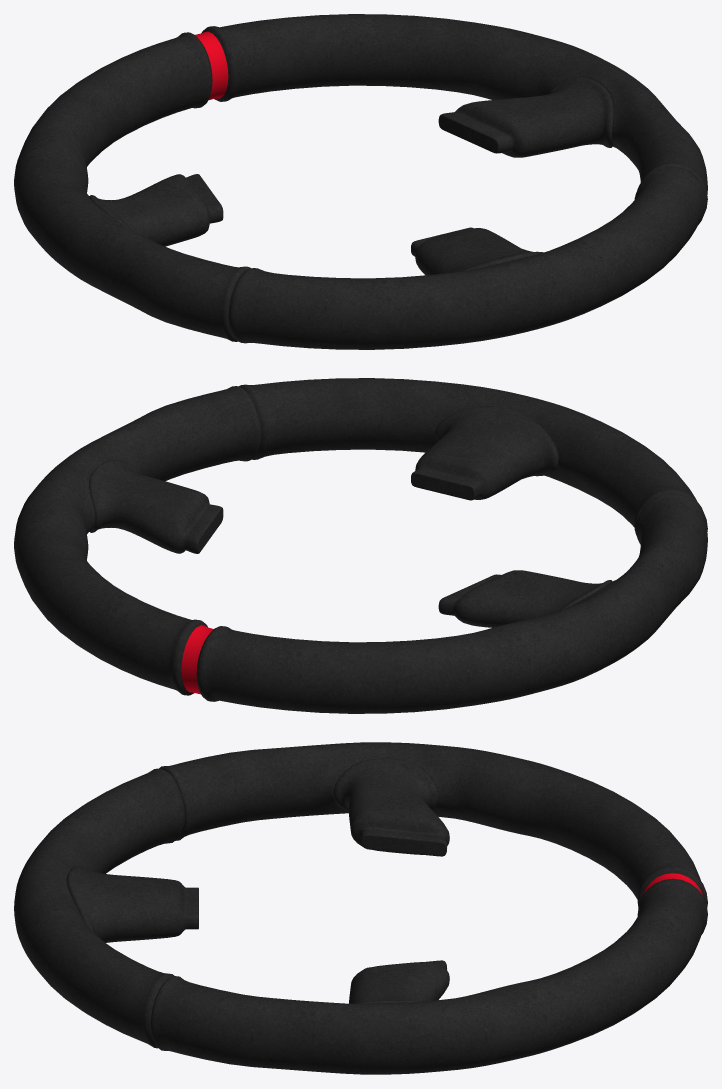
Rendered from leatherRim.glb.
3 views of the same model, one above another, from view 1: azimuth 30°, elevation 25°; view 2: azimuth 150°, elevation 25°; view 3: azimuth 270°, elevation 25° (orthographic).
Visible parts, largest first — view 1: Circle, Circle.005; view 2: Circle, Circle.005; view 3: Circle.
Part boxes in pixels (box(x1,y1,x2,y2)): Circle: box(14, 14, 707, 349); Circle.005: box(195, 31, 228, 99); Circle: box(14, 378, 707, 713); Circle.005: box(181, 625, 213, 694); Circle: box(14, 742, 707, 1074).
Size of the model in its own units: 317 by 36.61 by 325.
Materials: 2 (1 with a texture image).
